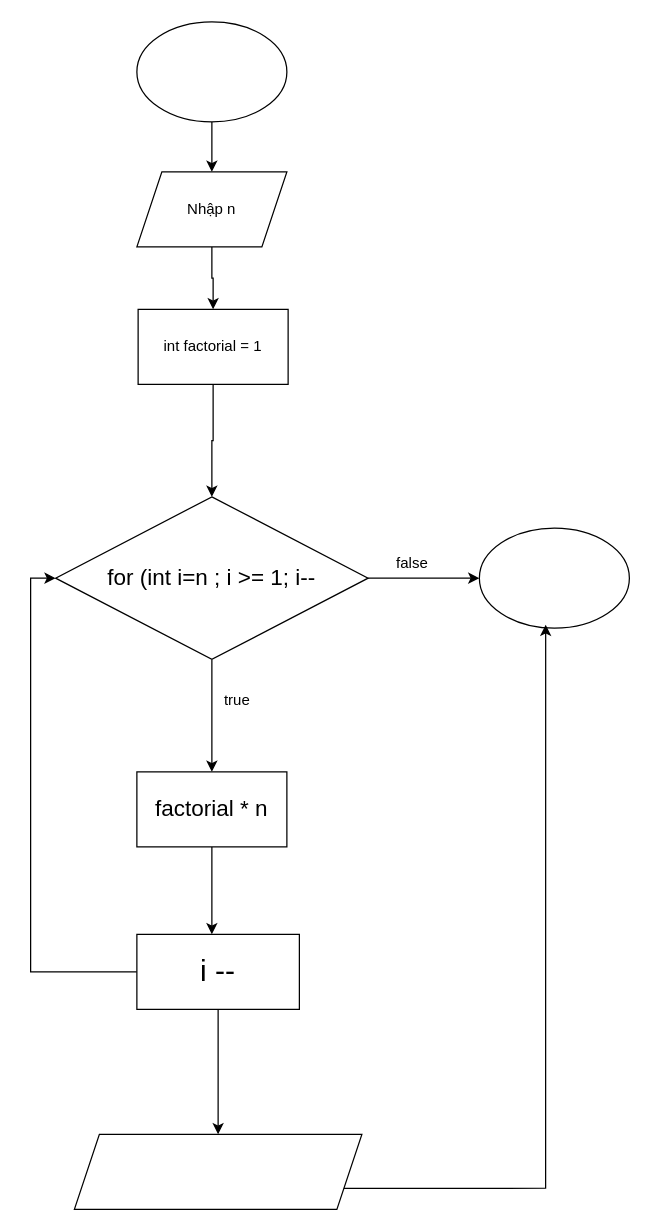
Image size: 651x1231. Some labels were removed from this diagram. The centre of each missing label's shape, as x and y in pixels:
"END" belongs at point 553,577.
"in kết quả của factorial" belongs at point 217,1171.
"start" belongs at point 211,71.
